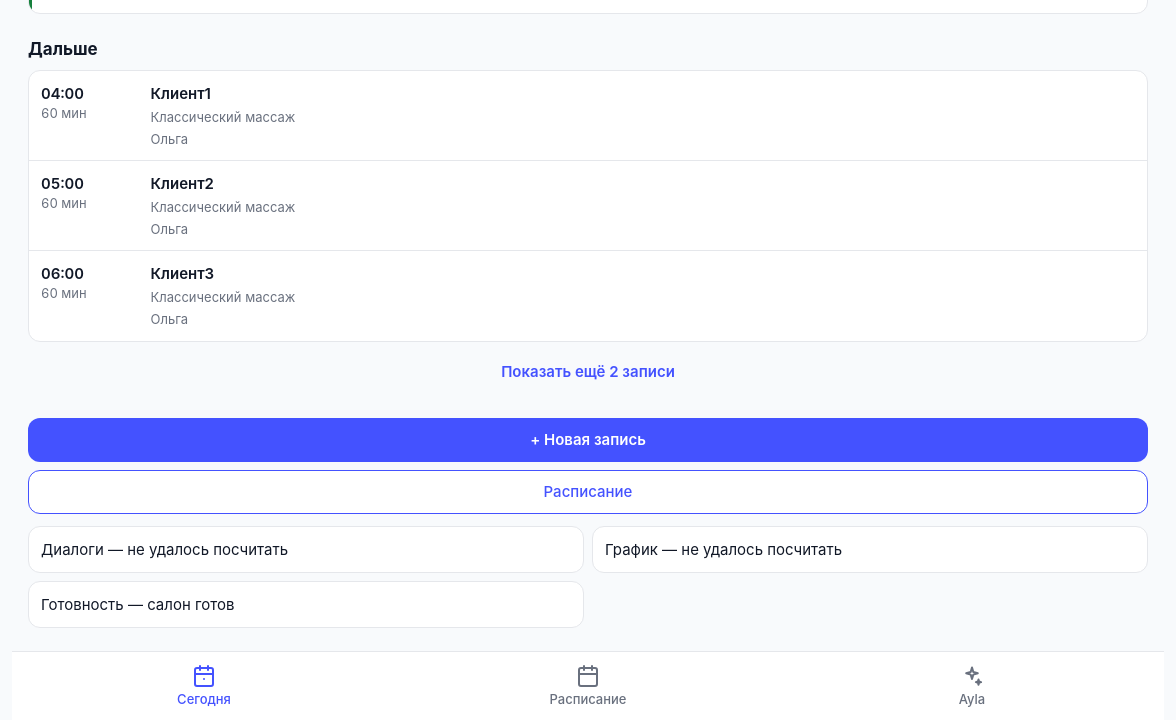
Test case: остаток дня раскрывается на месте › «Дальше» показывает три записи, остальные — по кнопке
(page scrolled)
Expected: the text "Клиент1" is shown, [150,84,211,102]
Expected: the text "Клиент3" is shown, [150,264,214,283]
Click the button "Показать ещё 2 записи": x=588, y=372 [28,350,1148,394]
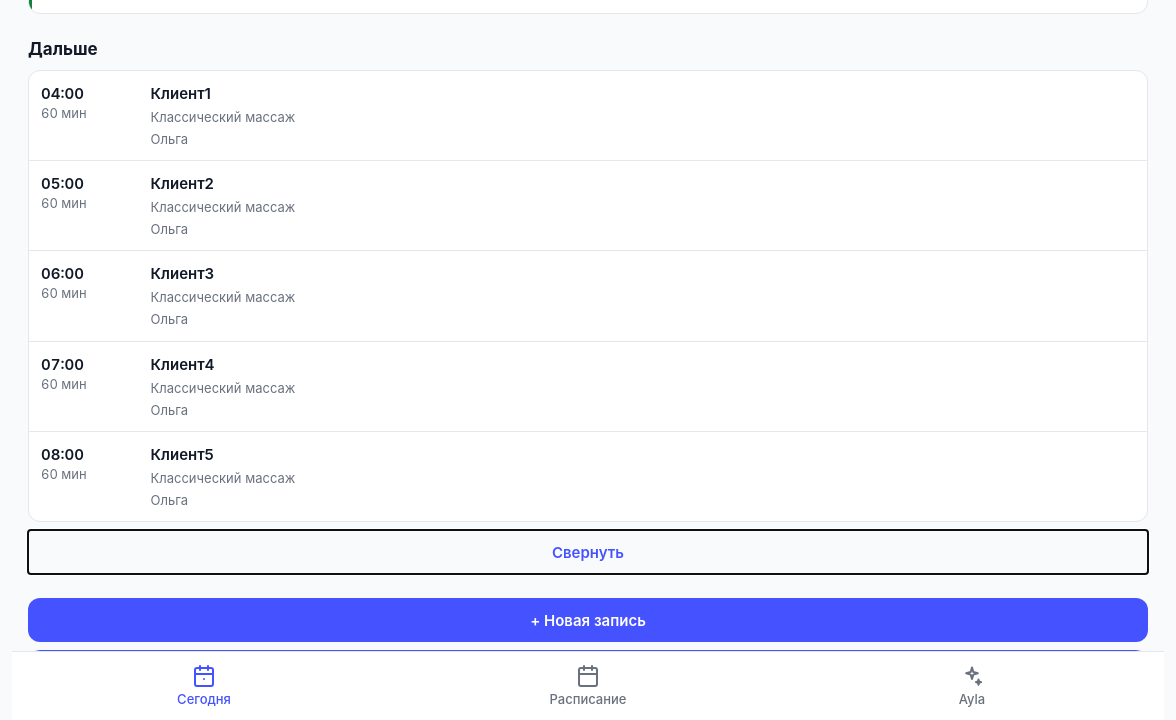
Expected: the text "Клиент4" is shown, [150,355,215,374]
Expected: the text "Клиент5" is shown, [150,445,214,464]
Expected: the button "Свернуть" is expanded
Click the button "Свернуть": x=588, y=552 [28,530,1148,574]
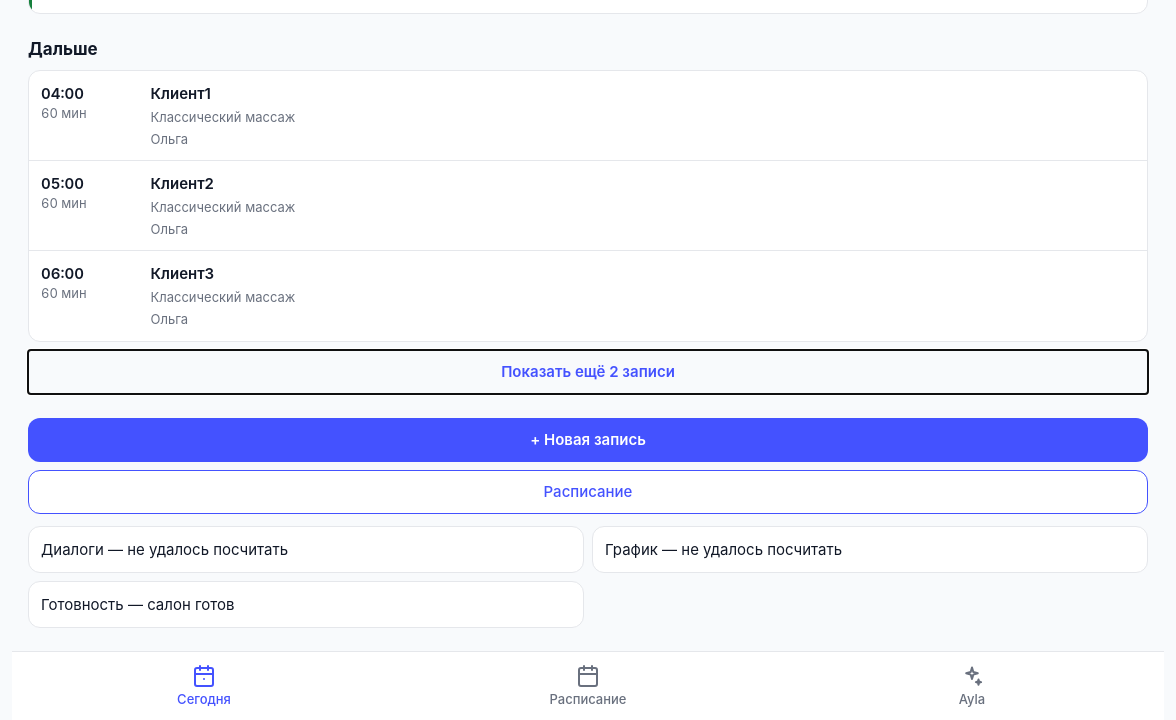
Expected: the text "Клиент3" is shown, [150,264,214,283]
Expected: the button "Клиент4" is gone
